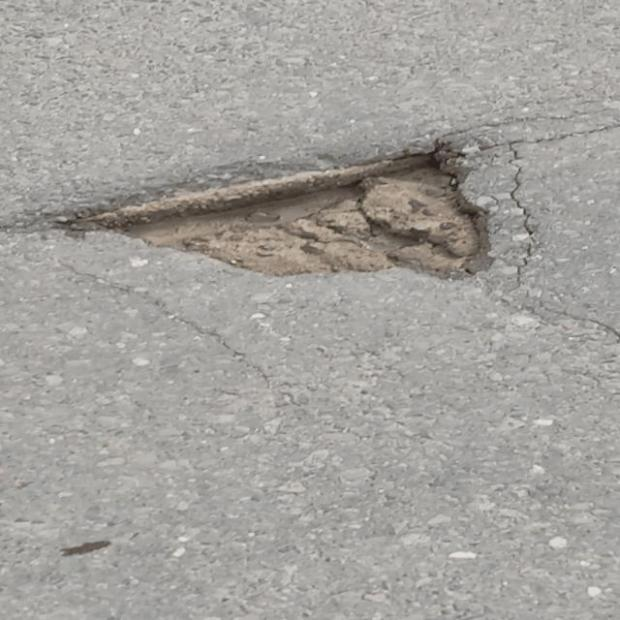lubang: (56, 133, 529, 277)
